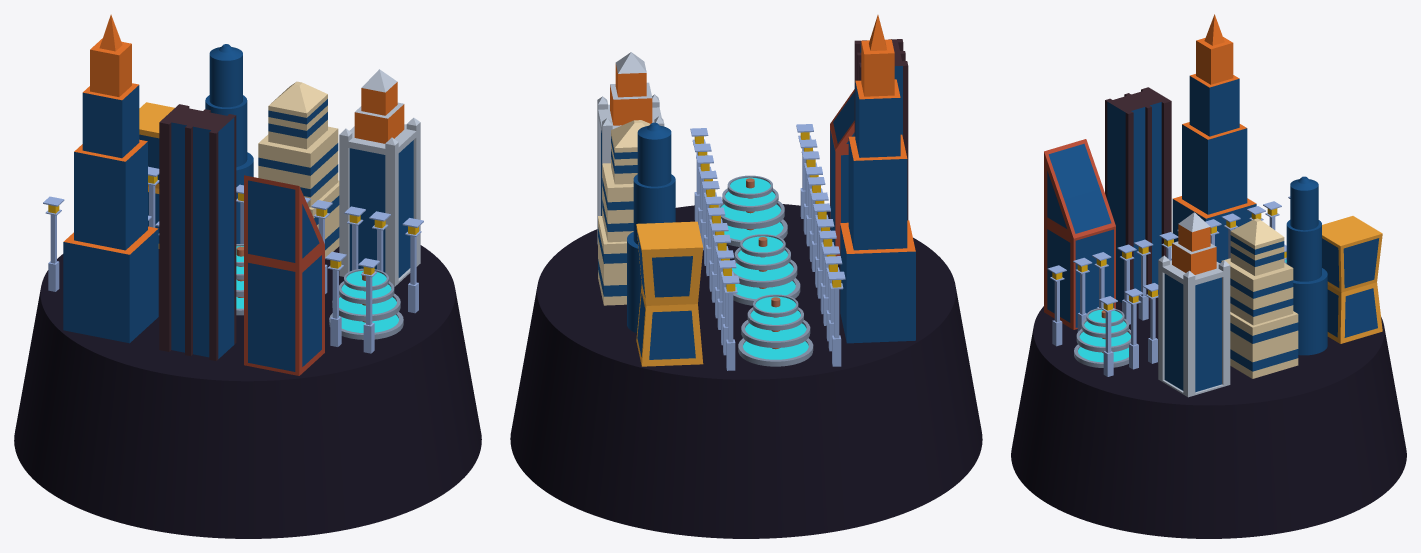
File: City.glb
3 views of the same model, side by side, from view 1: azimuth 30°, elevation 25°; view 2: azimuth 150°, elevation 25°; view 3: azimuth 270°, elevation 25° (orthographic). The views are drawn at different scales.
Visible parts, largest first — view 1: Platform, Building 1, Building 6, Building 4, Building 5, Building 2, Building 8, Cylinder.010, Building 3, Cube.035, Cube.002, Cube.005 (+4 smaller); view 2: Platform, Building 1, Building 3, Building 2, Building 8, Cylinder.019, Building 5, Cylinder.001, Cylinder.010, Building 4, Building 6, Cube.035 (+1 smaller); view 3: Platform, Building 1, Building 5, Building 6, Building 4, Building 2, Building 3, Building 8, Cylinder.010, Cube.038, Cube.002, Cube.014 (+4 smaller).
Boxes of the visible parts, bbox=[...] form: Platform: bbox=[14, 245, 481, 538]; Building 1: bbox=[63, 14, 158, 343]; Building 6: bbox=[159, 104, 236, 360]; Building 4: bbox=[244, 175, 324, 375]; Building 5: bbox=[339, 69, 420, 286]; Building 2: bbox=[258, 81, 339, 258]; Building 8: bbox=[205, 44, 253, 243]; Cylinder.010: bbox=[329, 268, 403, 339]; Building 3: bbox=[139, 102, 174, 248]; Cube.035: bbox=[43, 196, 64, 291]; Cube.002: bbox=[358, 258, 379, 353]; Cube.005: bbox=[325, 251, 346, 346]; Platform: bbox=[510, 204, 982, 538]; Building 1: bbox=[840, 15, 915, 343]; Building 3: bbox=[636, 221, 703, 366]; Building 2: bbox=[598, 120, 650, 305]; Building 8: bbox=[627, 122, 675, 333]; Cylinder.019: bbox=[738, 294, 813, 366]; Building 5: bbox=[597, 52, 664, 244]; Cylinder.001: bbox=[732, 234, 800, 305]; Cylinder.010: bbox=[718, 175, 787, 246]; Building 4: bbox=[830, 39, 891, 256]; Building 6: bbox=[854, 39, 908, 220]; Cube.035: bbox=[827, 271, 845, 366]; Platform: bbox=[1011, 259, 1406, 538]; Building 1: bbox=[1172, 14, 1256, 262]; Building 5: bbox=[1158, 212, 1230, 397]; Building 6: bbox=[1105, 87, 1171, 302]; Building 4: bbox=[1044, 139, 1115, 329]; Building 2: bbox=[1221, 218, 1298, 378]; Building 3: bbox=[1322, 216, 1382, 343]; Building 8: bbox=[1286, 176, 1327, 355]; Cylinder.010: bbox=[1074, 307, 1130, 367]; Cube.038: bbox=[1099, 296, 1117, 376]; Cube.002: bbox=[1047, 265, 1066, 346]; Cube.014: bbox=[1134, 239, 1153, 320].
Bounding box in the file's own units: 15.31 × 16.48 × 15.31.
